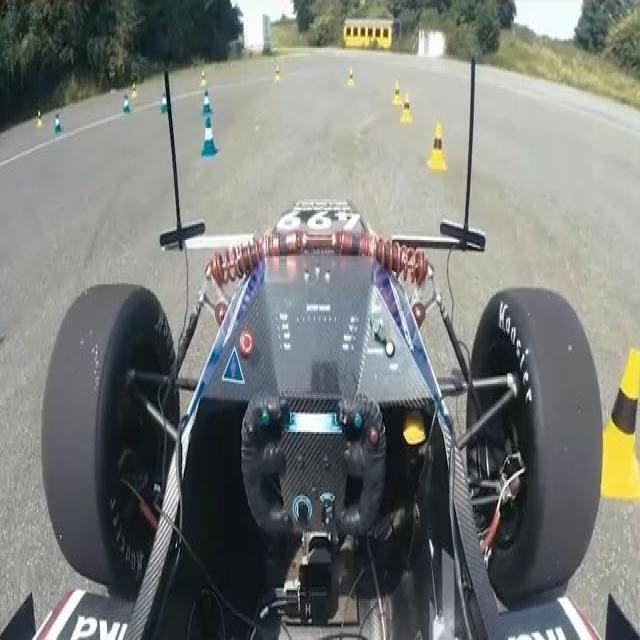blue_cone: (201, 116, 219, 156), (202, 89, 214, 116), (123, 89, 131, 115), (54, 112, 62, 137), (161, 92, 169, 116)
yellow_cone: (591, 348, 640, 499), (427, 122, 447, 170), (401, 92, 414, 122), (392, 82, 402, 105), (346, 62, 354, 88), (36, 110, 43, 131), (274, 62, 280, 84), (200, 70, 206, 90), (131, 82, 137, 100)
